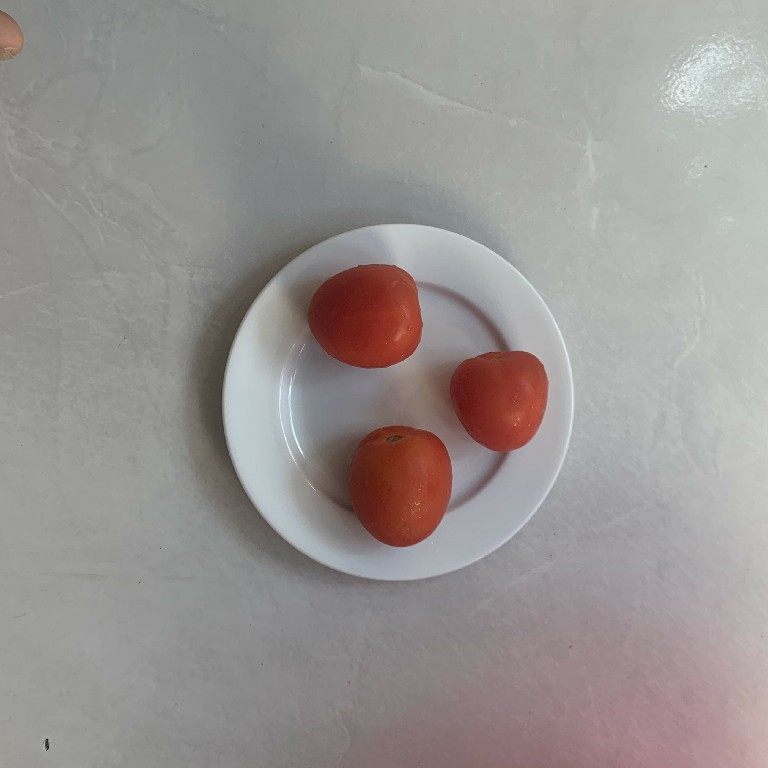OK: (346, 412, 460, 560), (303, 260, 430, 375), (451, 341, 554, 459)
